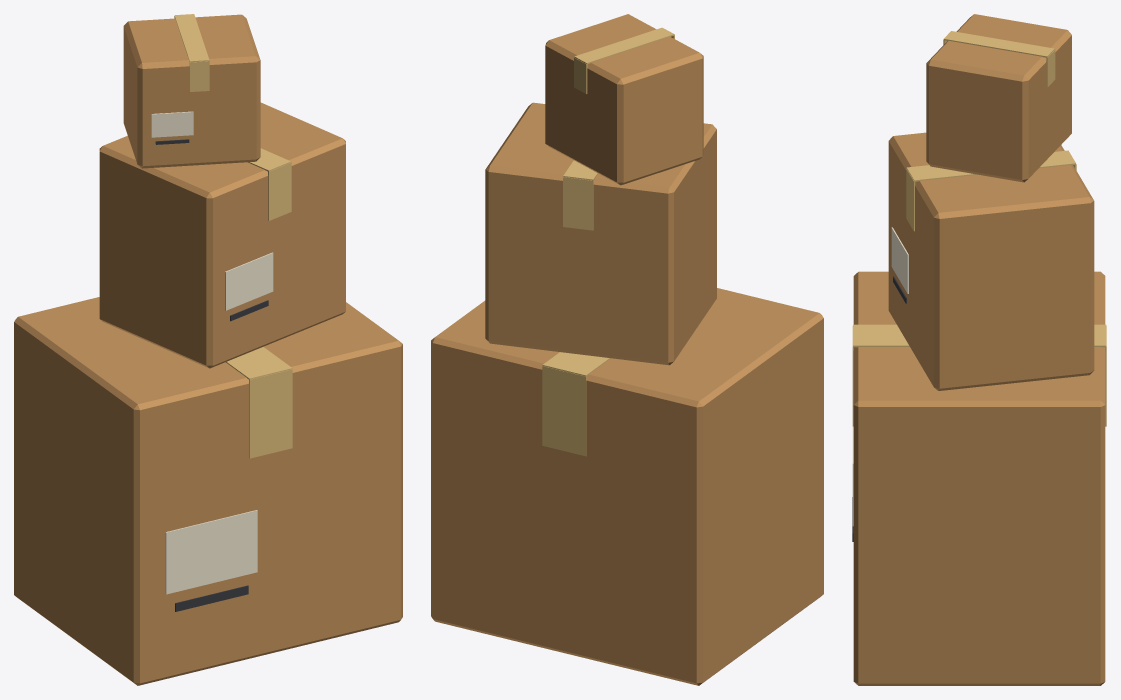
Rendered from box_stack.glb.
3 views of the same model, side by side, from view 1: azimuth 30°, elevation 25°; view 2: azimuth 150°, elevation 25°; view 3: azimuth 270°, elevation 25° (orthographic).
Visible parts, largest first — view 1: box_stack; view 2: box_stack; view 3: box_stack.
Boxes of the visible parts, x1,y1,x2,y2 form: box_stack: (14, 14, 402, 685); box_stack: (431, 14, 823, 685); box_stack: (852, 14, 1106, 685).
Bounding box in the file's own units: 0.8 × 1.61 × 0.6465.
